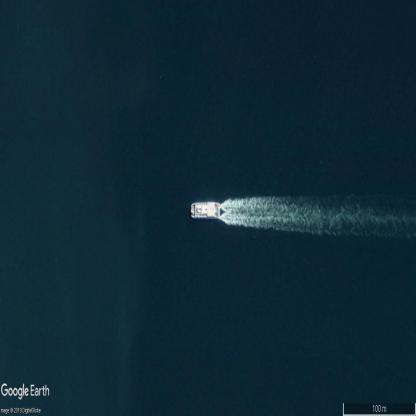ship: (192, 203, 220, 219)
